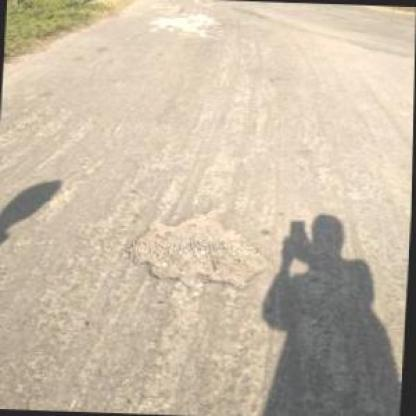pothole: (124, 204, 278, 294)
